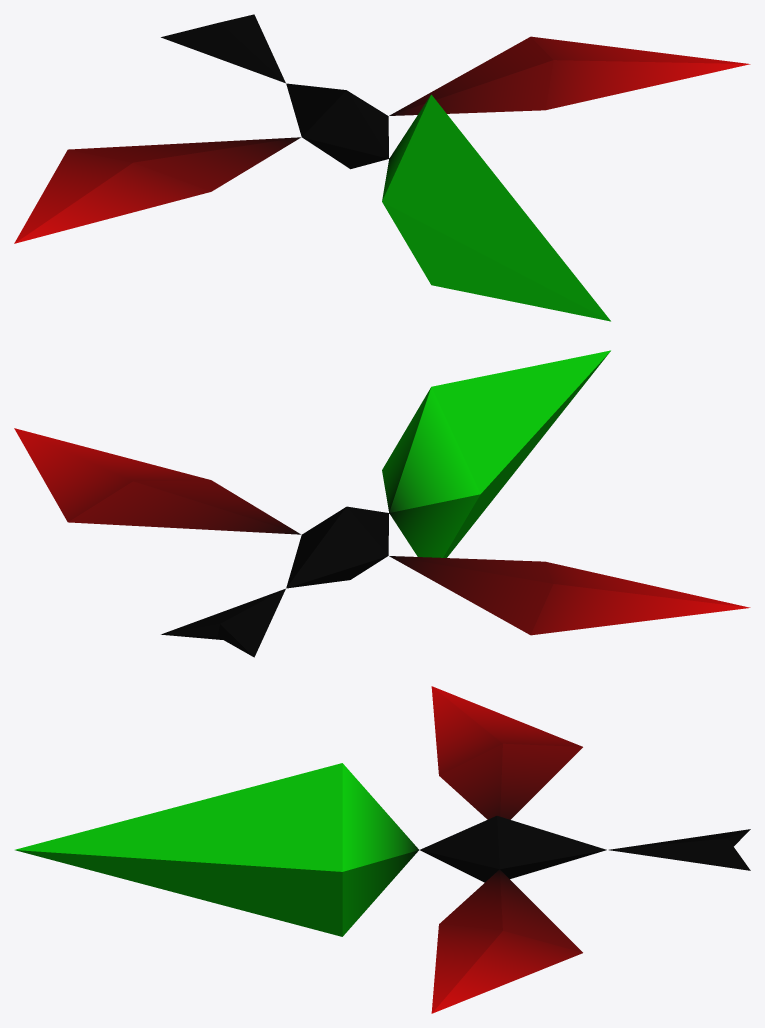
Rendered from Boid_Complex.fbx.
3 renders of one model, top to bottom at view 1: azimuth 30°, elevation 25°; view 2: azimuth 150°, elevation 25°; view 3: azimuth 270°, elevation 25°, orthographic. The views are drawn at different scales.
Visible parts, largest first — view 1: Boid_Complex.001; view 2: Boid_Complex.001; view 3: Boid_Complex.001.
Part boxes in pixels (<box>): Boid_Complex.001: <box>14,14,750,321</box>; Boid_Complex.001: <box>14,350,750,657</box>; Boid_Complex.001: <box>15,686,750,1013</box>.
Bounding box in the file's own units: 1.78 × 0.4395 × 1.69.
